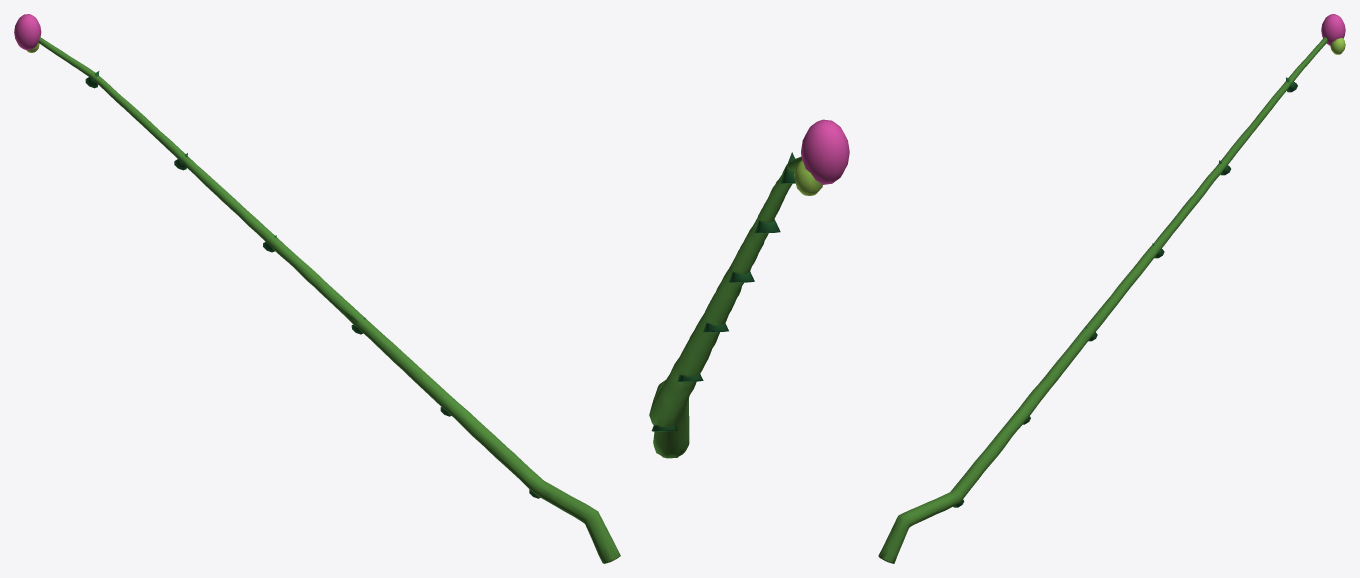
File: canopy_orchid_spike_lod1.glb
3 views of the same model, side by side, from view 1: azimuth 30°, elevation 25°; view 2: azimuth 150°, elevation 25°; view 3: azimuth 270°, elevation 25° (orthographic). The views are drawn at different scales.
Visible parts, largest first — view 1: canopy_orchid_spike.001; view 2: canopy_orchid_spike.001; view 3: canopy_orchid_spike.001.
Boxes of the visible parts, x1,y1,x2,y2 form: canopy_orchid_spike.001: (14, 14, 620, 563); canopy_orchid_spike.001: (649, 119, 849, 458); canopy_orchid_spike.001: (878, 14, 1345, 563).
Size of the model in its own units: 16.52 by 19.94 by 21.
